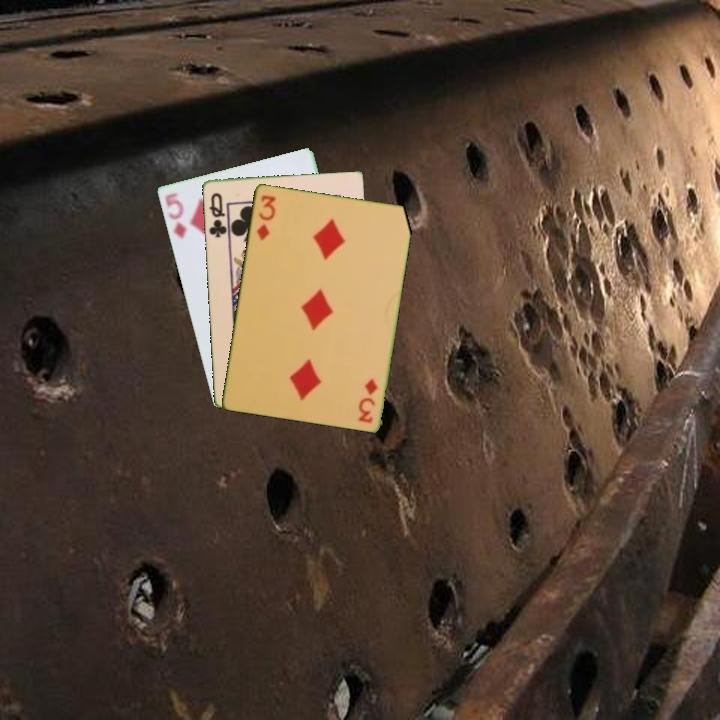3d: (253, 191, 279, 243), (355, 375, 380, 426)
5d: (161, 189, 190, 241)
Qc: (205, 189, 229, 240)
